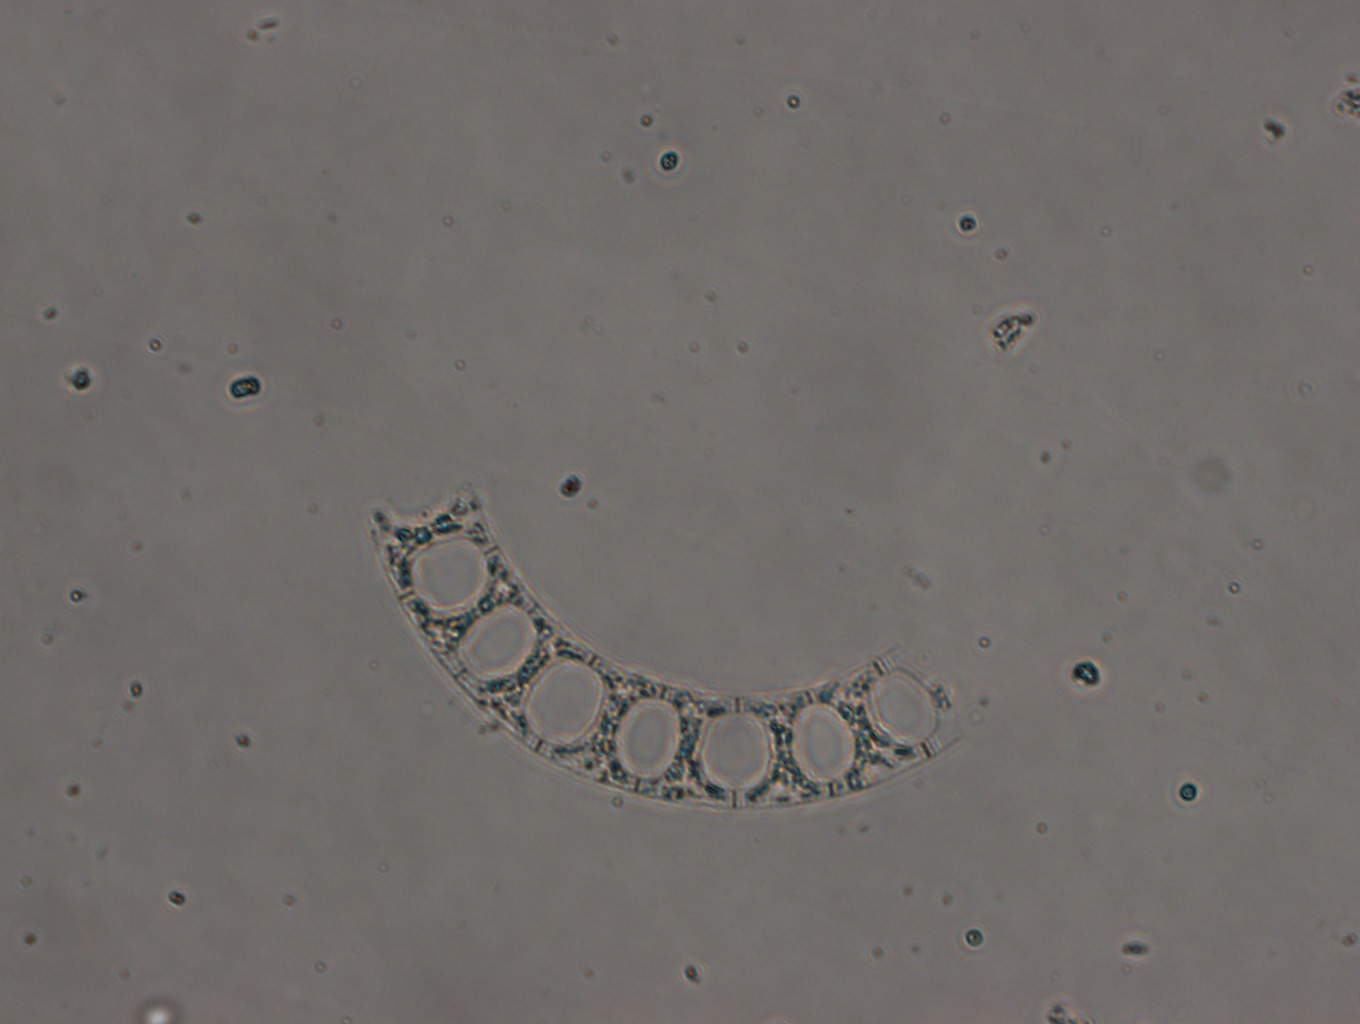eucampia: (367, 481, 963, 809)
